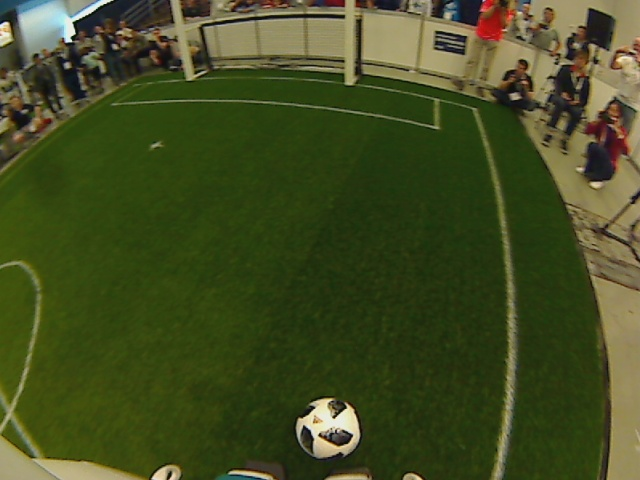ball: (293, 397, 362, 460)
